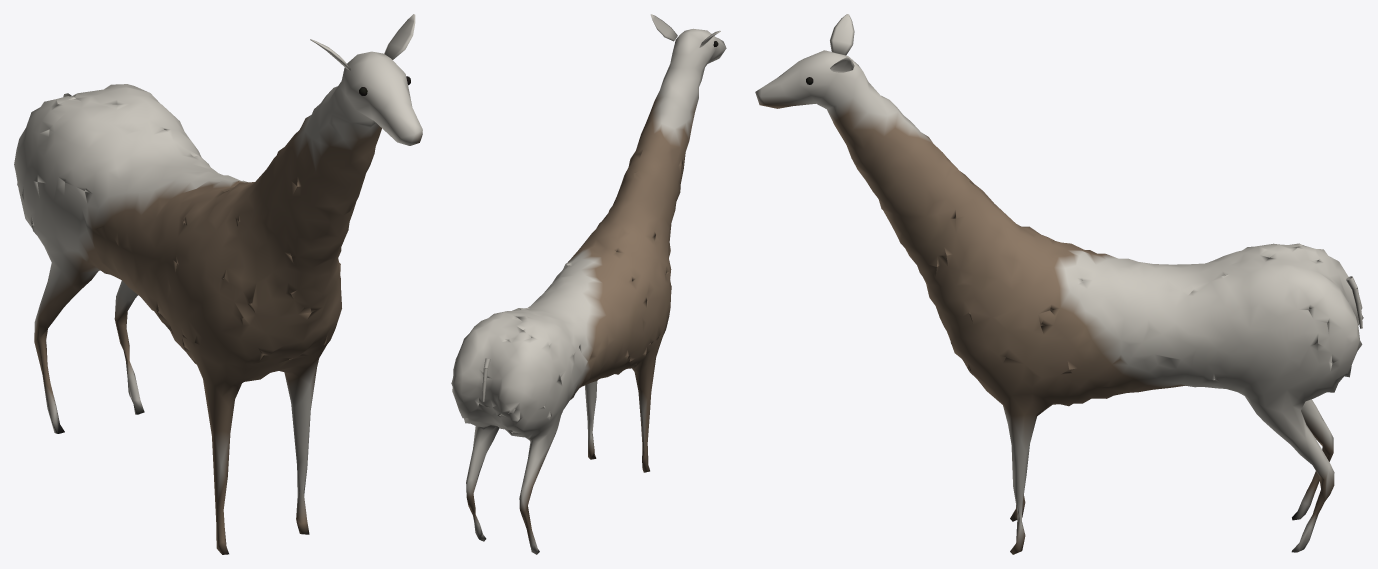
File: lama.glb
3 views of the same model, side by side, from view 1: azimuth 30°, elevation 25°; view 2: azimuth 150°, elevation 25°; view 3: azimuth 270°, elevation 25° (orthographic). The views are drawn at different scales.
Parts seen in each view (by area): view 1: lack; view 2: lack; view 3: lack.
Part boxes in pixels (x1,y1,x2,y2): lack: (14, 14, 422, 554); lack: (451, 14, 726, 554); lack: (755, 14, 1363, 554).
Bounding box in the file's own units: 0.5029 × 2.02 × 2.22.
